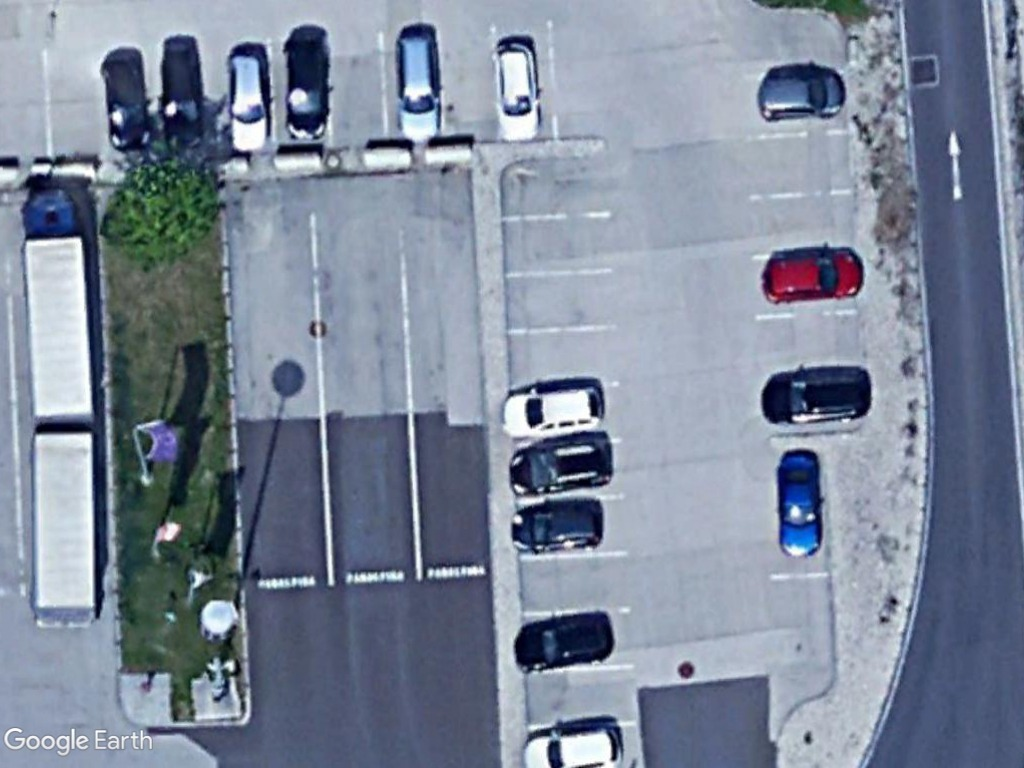car: (512, 610, 616, 678), (498, 381, 611, 443), (757, 245, 870, 306), (508, 436, 619, 497), (391, 30, 445, 142), (772, 447, 826, 559), (760, 372, 873, 425), (507, 500, 609, 557), (281, 35, 335, 142), (490, 40, 544, 146), (158, 44, 210, 150), (97, 55, 153, 153), (224, 47, 273, 153), (753, 69, 849, 123), (518, 720, 625, 768)
truck: (19, 186, 100, 430)
